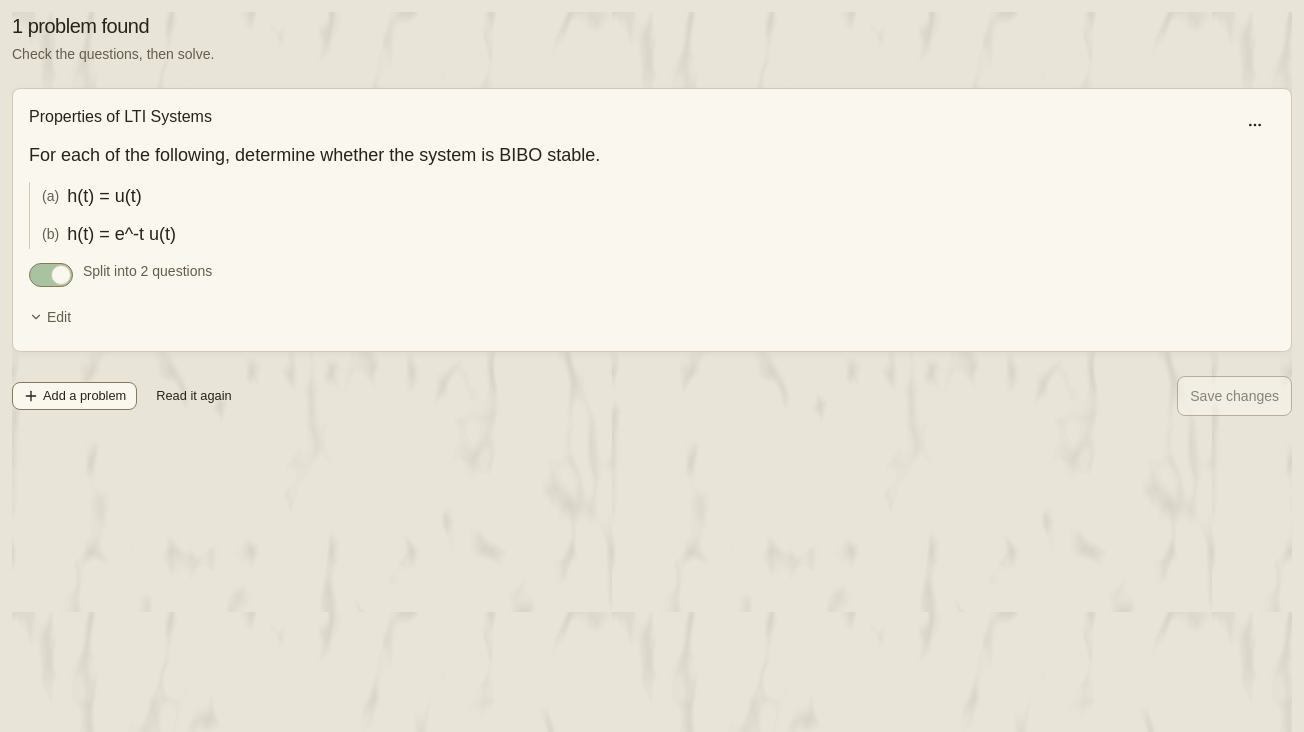
Scenario: how a problem's parts are solved › lets the student say the parts are one solution after all
Click the switch named "Solve each part of Properties of LTI Systems on its own": x=51, y=275 [29,263,73,287]
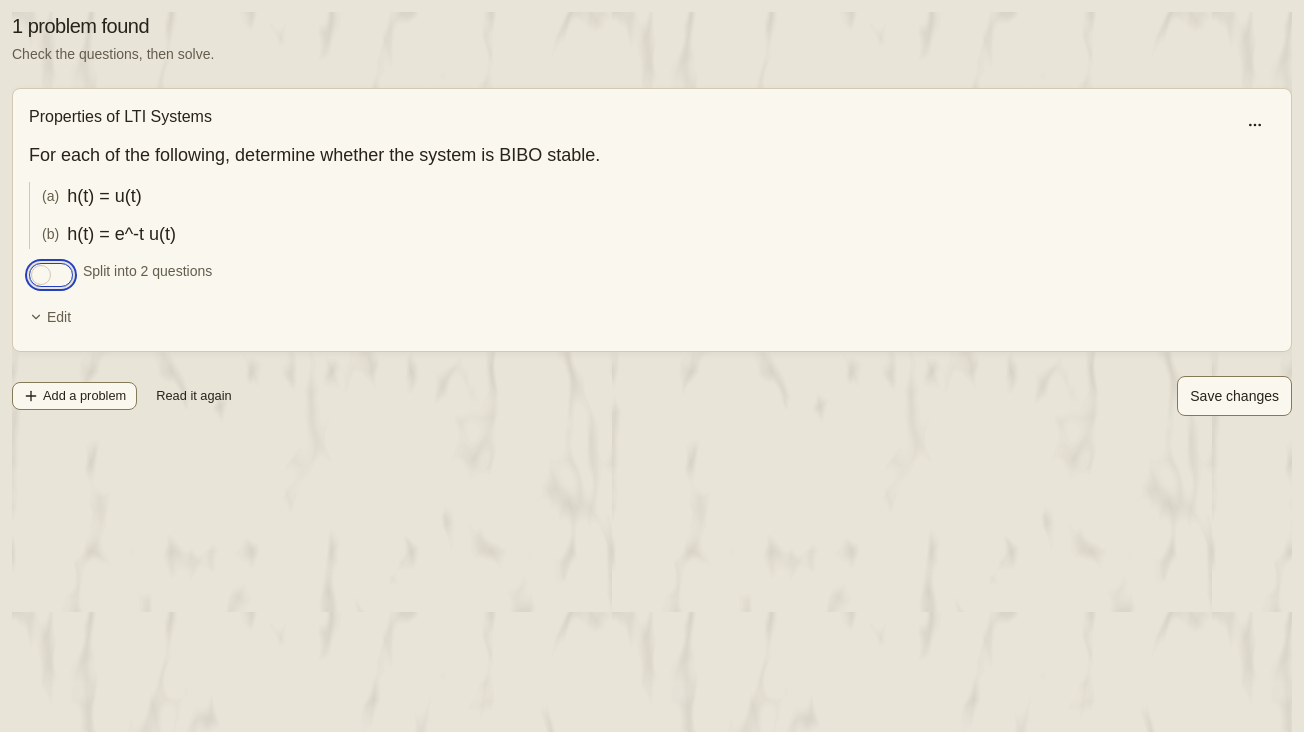
Expected: the text "Split into 2 questions" is shown, [83,261,212,281]
Expected: the button "Save changes" is enabled, [1177,376,1292,416]
